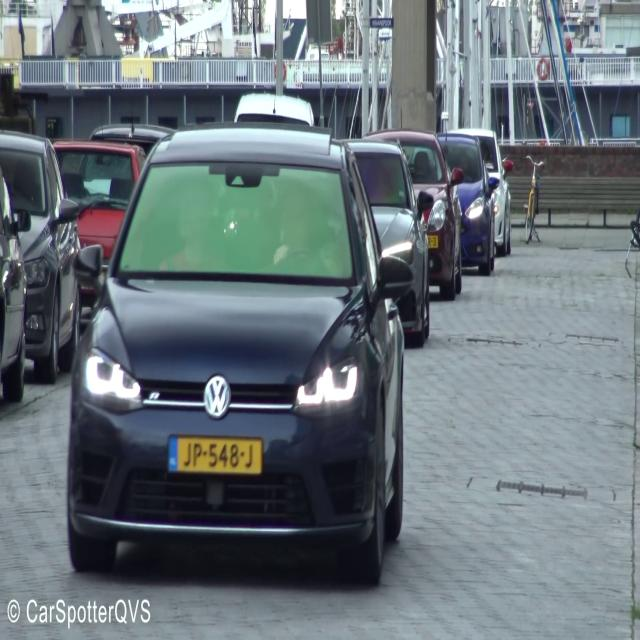number_plate: (166, 431, 265, 482)
